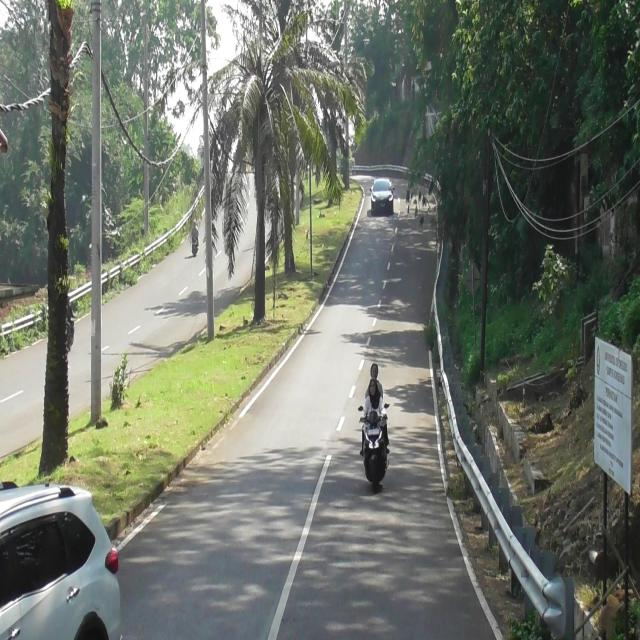motorcycle: (359, 404, 390, 491), (192, 235, 199, 256)
person: (363, 382, 389, 422), (365, 364, 385, 396), (191, 219, 199, 236)
rider_region: (359, 382, 391, 491), (190, 219, 200, 257)
